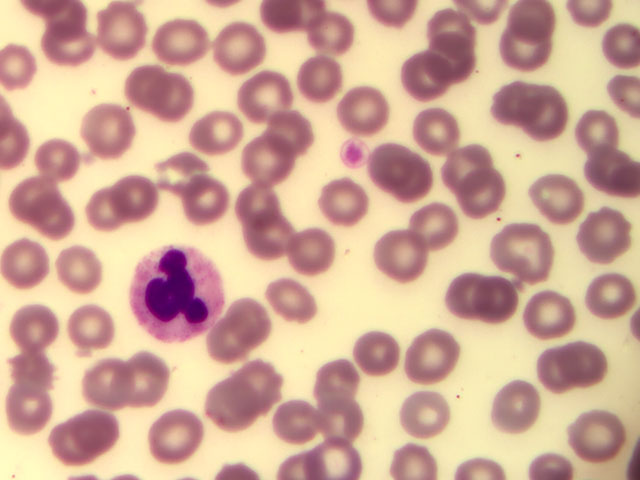Platelets: (339, 138, 369, 167)
RBC: (41, 16, 94, 71), (97, 4, 150, 59), (161, 14, 214, 69), (120, 59, 173, 114), (156, 72, 209, 127), (81, 105, 134, 160), (39, 133, 92, 188), (27, 190, 80, 245), (79, 180, 132, 235), (112, 169, 165, 224), (150, 141, 203, 196), (176, 172, 229, 227), (194, 104, 247, 159), (236, 64, 289, 119), (219, 21, 272, 76), (307, 8, 360, 63), (296, 57, 349, 112), (338, 76, 391, 131), (263, 106, 316, 161), (237, 139, 290, 194), (230, 169, 283, 224), (241, 205, 294, 260), (284, 223, 337, 278), (314, 174, 367, 229), (359, 136, 412, 191), (388, 156, 441, 211), (412, 105, 465, 160), (398, 57, 451, 112), (427, 28, 480, 83), (427, 1, 480, 56), (503, 23, 556, 78), (587, 20, 640, 75), (573, 100, 626, 155), (528, 82, 581, 137), (490, 78, 543, 133), (438, 134, 491, 189), (457, 170, 510, 225), (413, 195, 466, 250), (373, 231, 426, 286), (431, 270, 484, 325), (474, 275, 527, 330), (494, 221, 547, 276), (531, 172, 584, 227), (575, 207, 628, 262), (581, 263, 634, 318), (587, 140, 640, 195), (518, 288, 571, 343), (561, 332, 614, 387), (527, 348, 580, 403), (488, 379, 541, 434), (563, 407, 616, 462), (384, 425, 437, 480), (399, 385, 452, 440), (402, 322, 455, 377), (351, 325, 404, 380), (317, 350, 370, 405), (311, 390, 364, 445), (273, 395, 326, 450), (231, 353, 284, 408), (200, 372, 253, 427), (205, 321, 258, 376), (225, 297, 278, 352), (255, 279, 308, 334), (121, 354, 174, 409), (82, 352, 135, 407), (69, 307, 122, 362), (57, 239, 110, 294), (11, 300, 64, 355), (1, 345, 54, 400), (40, 415, 93, 470), (69, 414, 122, 469), (151, 411, 204, 466), (515, 1, 568, 55), (1, 161, 53, 216), (1, 239, 53, 294), (1, 364, 53, 419), (1, 39, 48, 98), (311, 442, 362, 480)
WBC: (128, 245, 225, 339)
